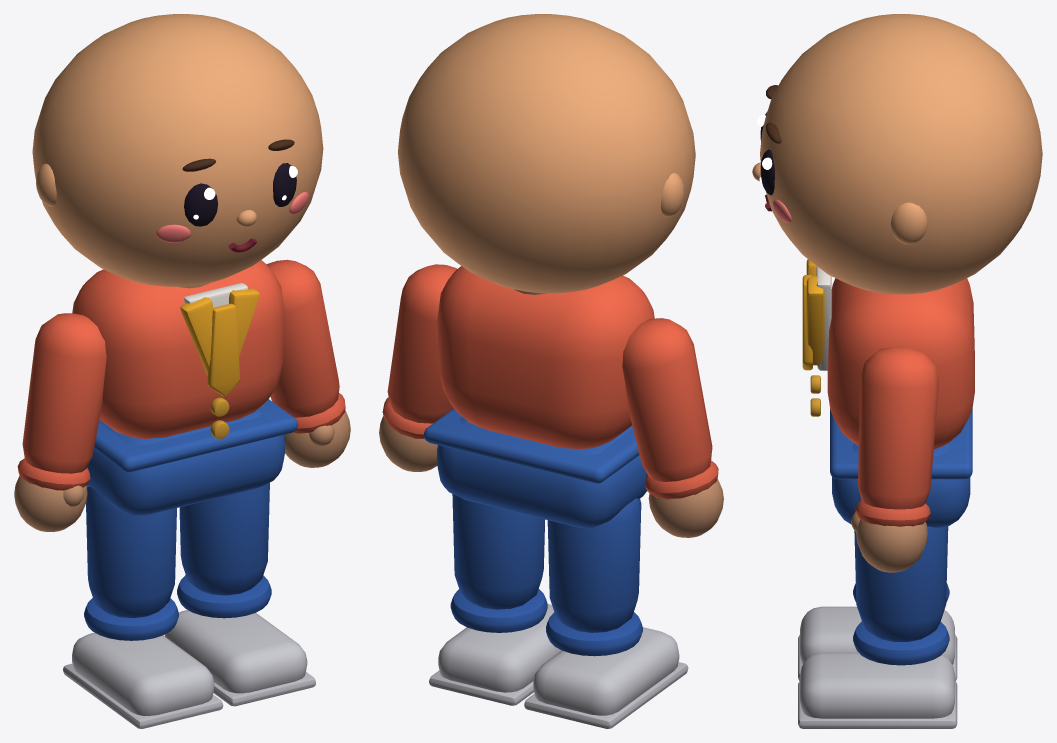
Rendered from body_adult_suit.glb.
3 views of the same model, side by side, from view 1: azimuth 30°, elevation 25°; view 2: azimuth 150°, elevation 25°; view 3: azimuth 270°, elevation 25° (orthographic). The views are drawn at different scales.
Visible parts, largest first — view 1: Head, Torso, LegR, LegL, ArmR, Hips, ArmL; view 2: Head, Torso, LegR, LegL, Hips, ArmR, ArmL; view 3: Head, LegL, Torso, ArmL, Hips, LegR.
Boxes of the visible parts, x1,y1,x2,y2 form: Head: [32, 14, 323, 286]; Torso: [72, 260, 284, 439]; LegR: [63, 486, 223, 728]; LegL: [164, 482, 315, 706]; ArmR: [14, 313, 106, 531]; Hips: [86, 399, 297, 515]; ArmL: [267, 259, 350, 467]; Head: [398, 14, 695, 293]; Torso: [437, 266, 654, 449]; LegR: [524, 498, 688, 728]; LegL: [429, 494, 561, 705]; Hips: [424, 408, 646, 527]; ArmR: [622, 318, 723, 537]; ArmL: [379, 264, 457, 471]; Head: [752, 14, 1042, 294]; LegL: [798, 526, 957, 728]; Torso: [802, 259, 974, 449]; ArmL: [851, 346, 939, 572]; Hips: [830, 408, 972, 527]; LegR: [798, 583, 957, 680].
Bounding box in the file's own units: 0.7408 × 1.4 × 0.5599.
